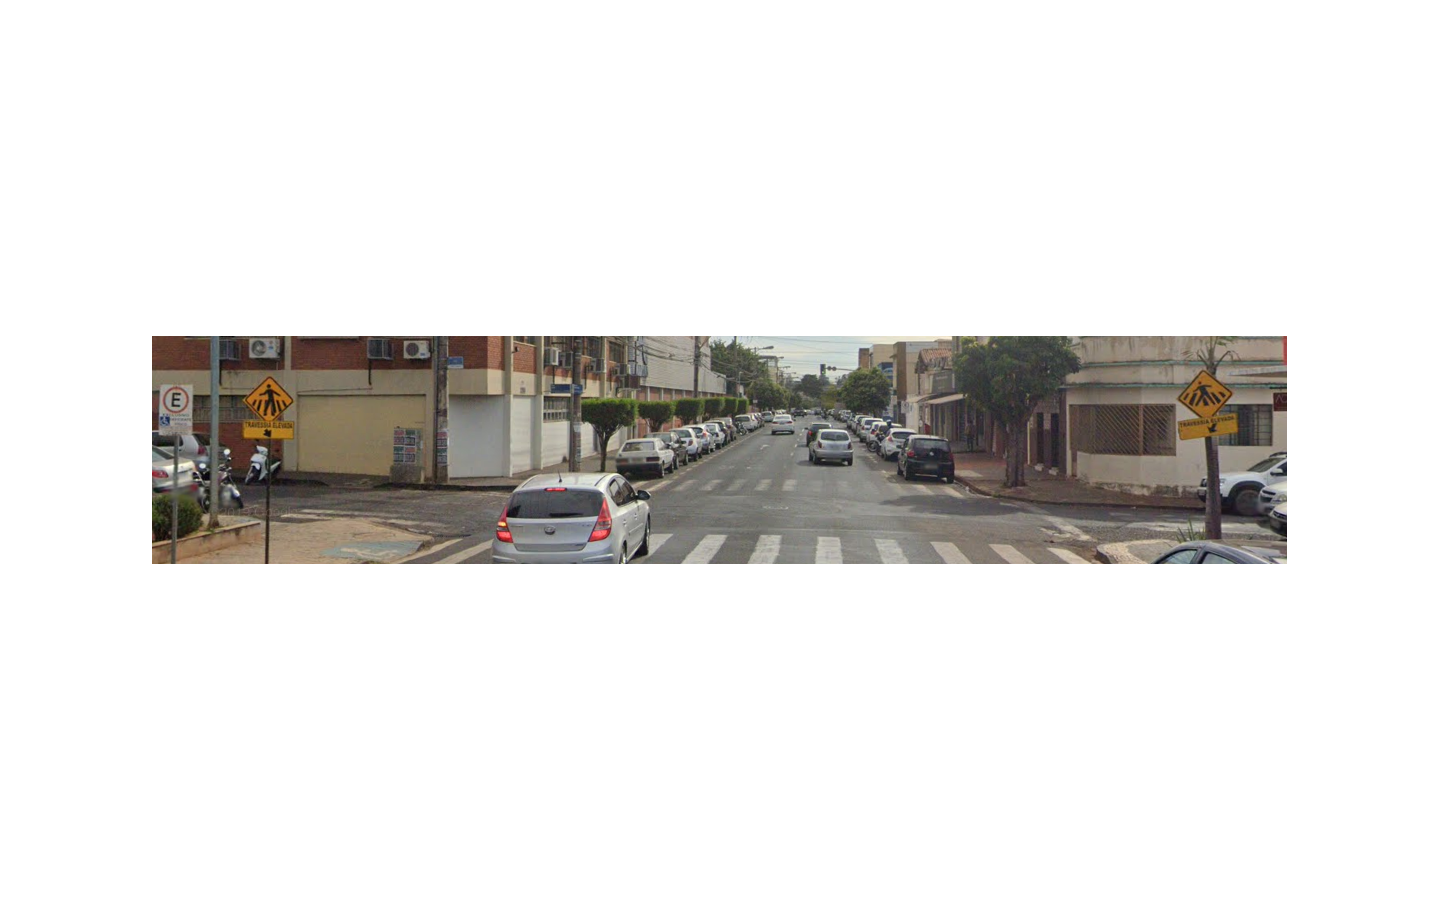telev: (1177, 369, 1238, 441), (241, 376, 295, 439)
